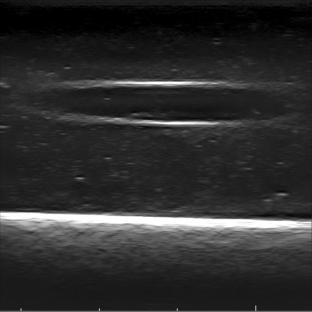vessel: (41, 80, 277, 126)
